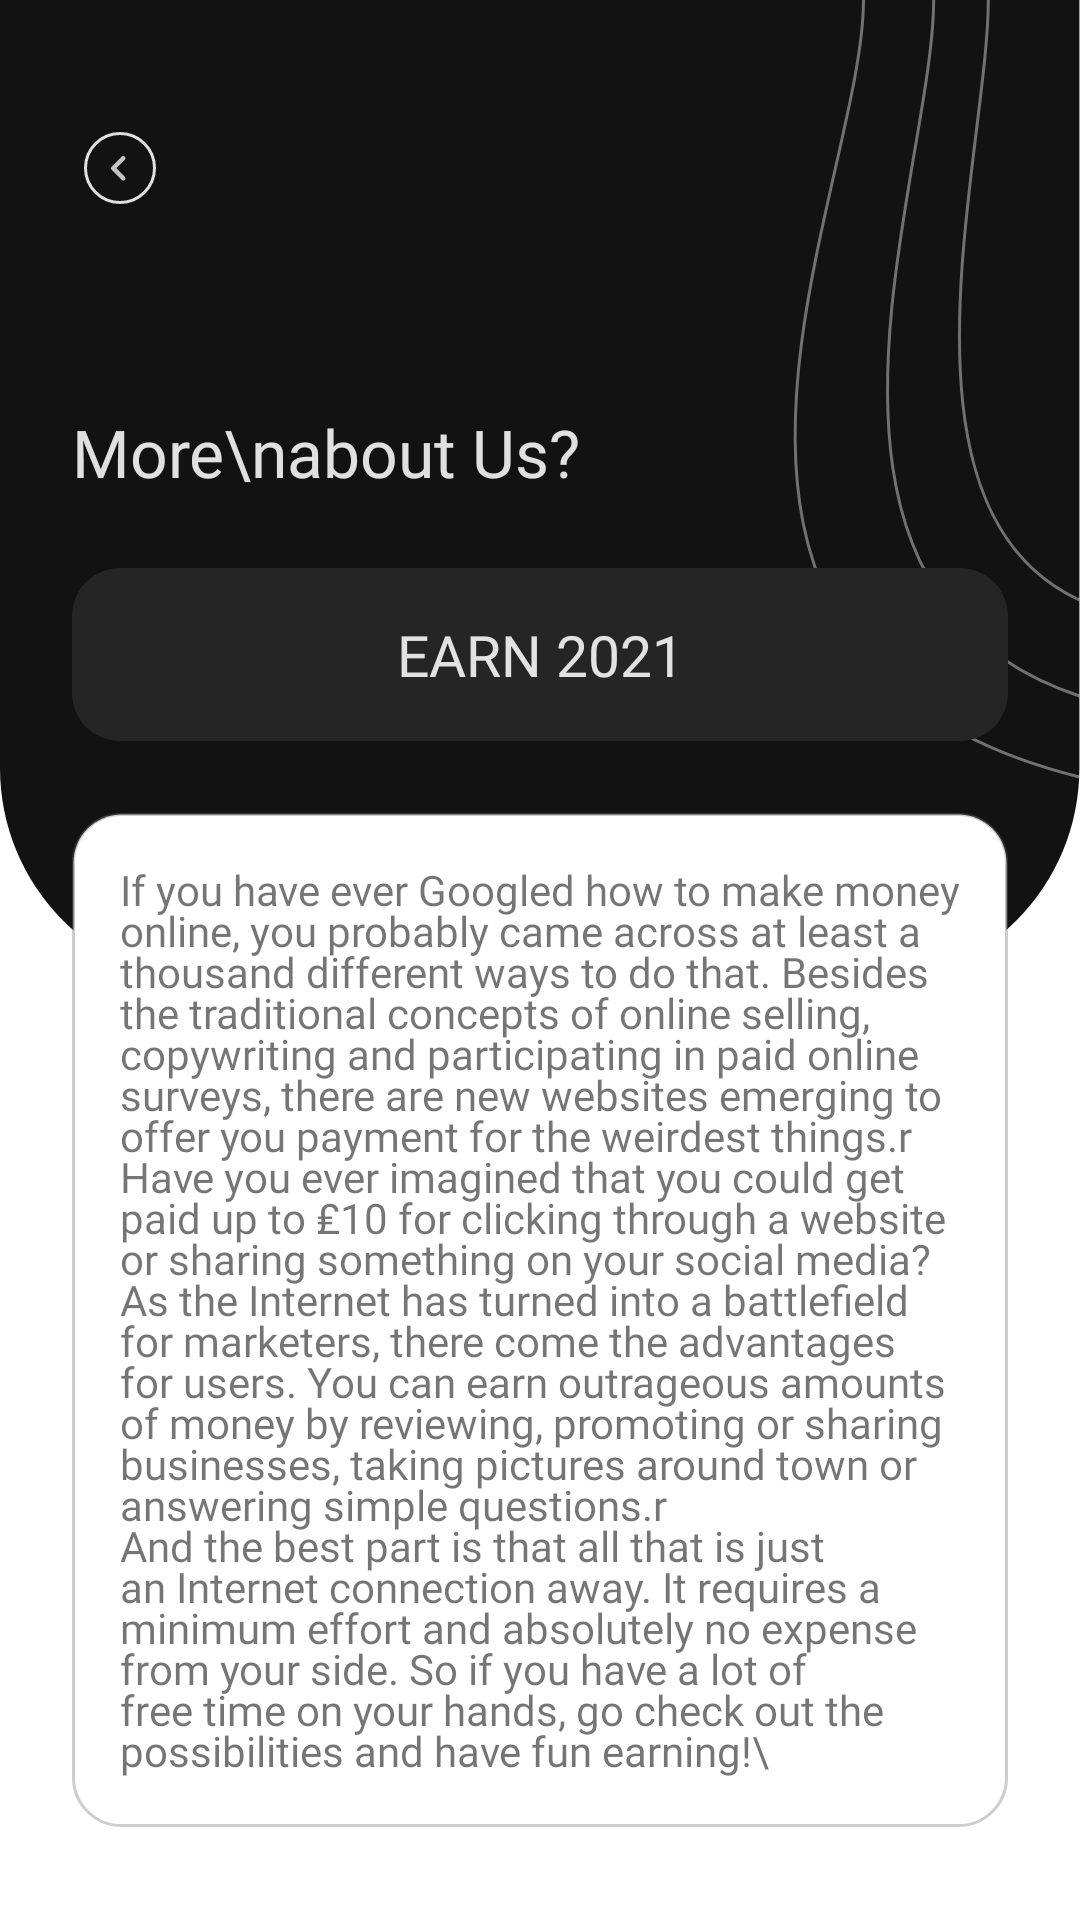

Icons on this 1080px x 1920px Android screen, each with its box as (x1, y1, x2, y2):
back: (84, 132, 156, 204)
